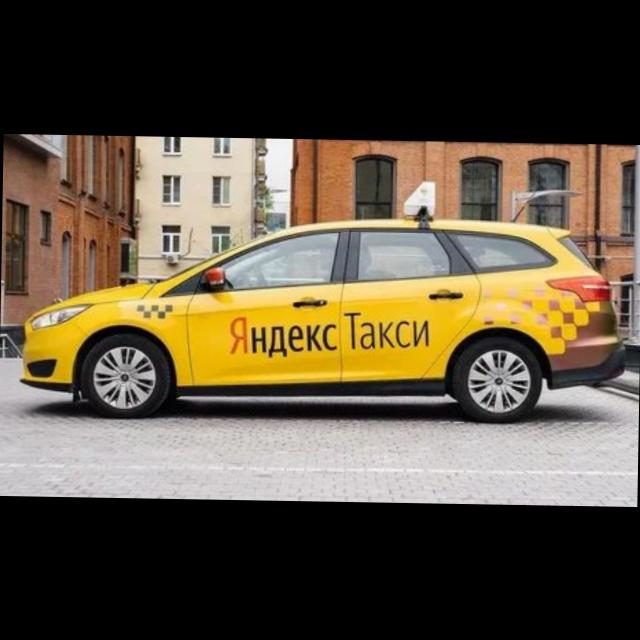taxi: (19, 204, 630, 429)
